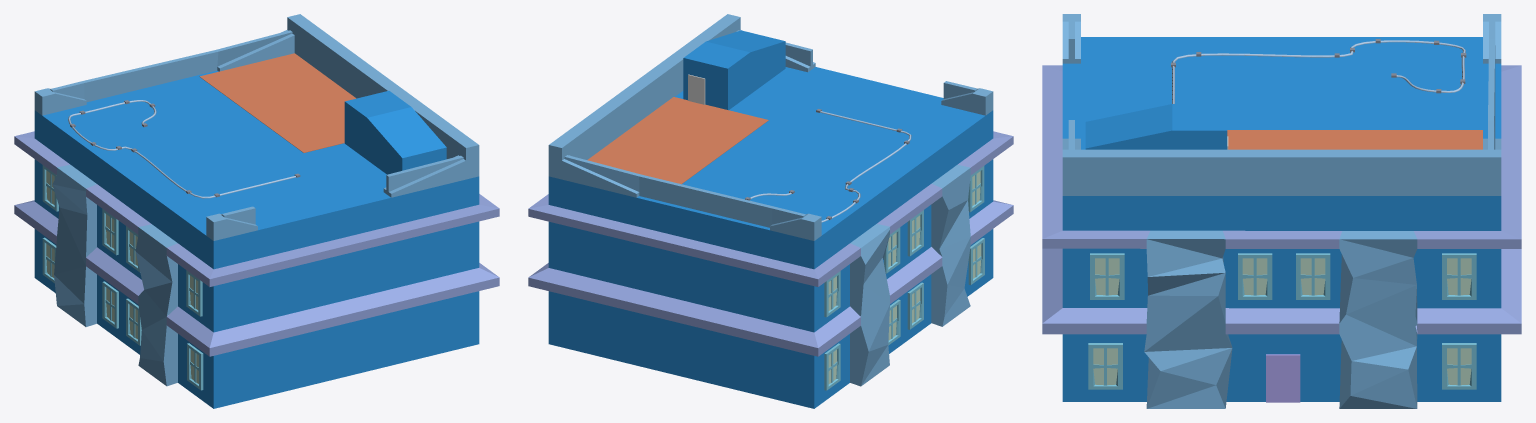
File: AR_Building_2.fbx
The picture shows the model from 3 angles, left to right: view 1: azimuth 30°, elevation 25°; view 2: azimuth 150°, elevation 25°; view 3: azimuth 270°, elevation 25°; orthographic projection. The views are drawn at different scales.
Visible parts, largest first — view 1: Main, MainDeko1, MainDeko, WoodFloor, RoofCabin, Cable.001, Fenster.007, Fenster.005, Fenster.002, Fenster.001, Fenster.006; view 2: Main, MainDeko1, MainDeko, WoodFloor, RoofCabin, Cable.001, Fenster.004, Fenster.006, Fenster.007, Fenster.003, Fenster, RoofDoor (+2 smaller); view 3: Main, MainDeko1, MainDeko, RoofCabin, WoodFloor, HouseDoor, Cable.001, Fenster.012, Fenster.008, Fenster.009, Fenster.010, Fenster.011 (+7 smaller).
Part boxes in pixels (x1,y1,x2,y2): Main: (34,70,479,408); MainDeko1: (34,14,479,386); MainDeko: (14,131,499,356); WoodFloor: (199,53,356,152); RoofCabin: (344,90,446,174); Cable.001: (68,100,295,198); Fenster.007: (187,343,203,390); Fenster.005: (102,281,118,328); Fenster.002: (186,270,202,316); Fenster.001: (102,209,118,255); Fenster.006: (126,298,141,345); Main: (548,67,993,408); MainDeko1: (548,14,993,386); MainDeko: (528,131,1013,356); WoodFloor: (587,97,768,184); RoofCabin: (683,30,785,110); Cable.001: (746,111,911,222); Fenster.004: (824,343,840,390); Fenster.006: (907,282,923,329); Fenster.007: (968,238,984,285); Fenster.003: (824,271,840,317); Fenster: (907,210,923,256); RoofDoor: (688,74,705,104); Main: (1062,37,1501,401); MainDeko1: (1062,14,1501,408); MainDeko: (1042,65,1521,334); RoofCabin: (1085,104,1227,149); WoodFloor: (1227,130,1482,149); HouseDoor: (1266,354,1300,402); Cable.001: (1172,40,1465,103); Fenster.012: (1442,343,1476,389); Fenster.008: (1238,253,1272,299); Fenster.009: (1296,253,1330,299); Fenster.010: (1090,253,1124,299); Fenster.011: (1442,253,1476,299).
Size of the model in its own units: 2319 by 1549 by 2611.
